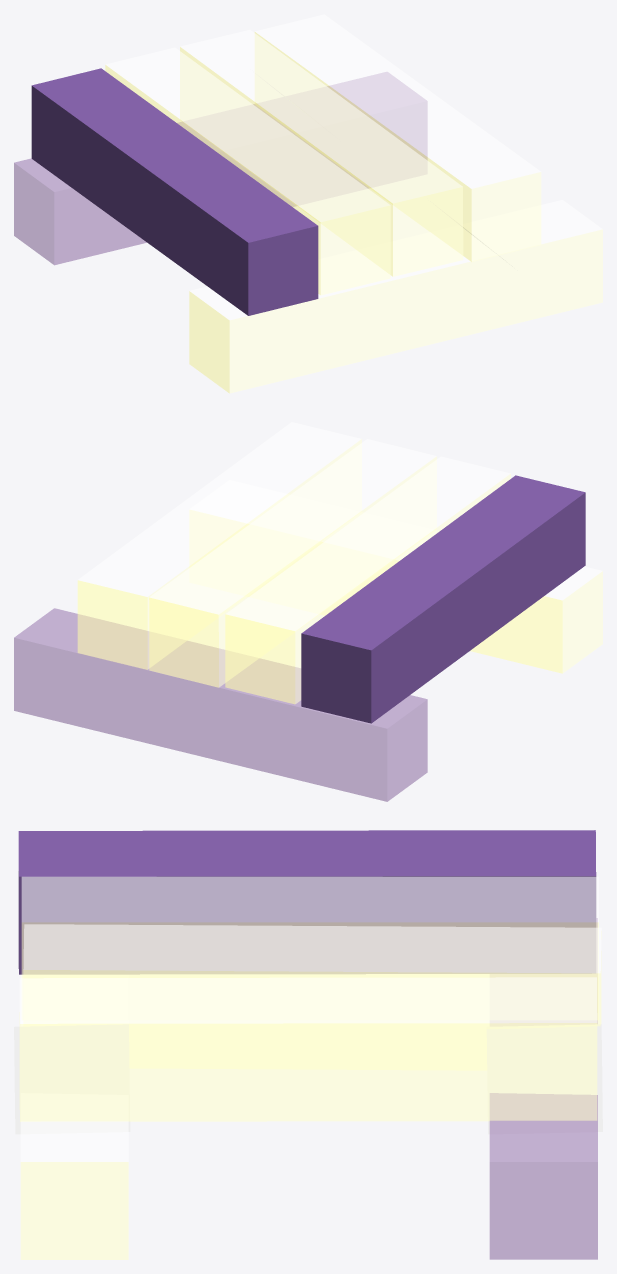
3 renders of one model, top to bottom at view 1: azimuth 30°, elevation 25°; view 2: azimuth 150°, elevation 25°; view 3: azimuth 270°, elevation 25°, orthographic. The views are drawn at different scales.
Visible parts, largest first — view 1: Box (×6); view 2: Box (×6); view 3: Box (×6), Plane (×2).
Boxes of the visible parts, <box> form: Box (×6): <box>14,14,602,393</box>; Box (×6): <box>14,422,602,801</box>; Box (×6): <box>18,830,601,1259</box>; Plane (×2): <box>14,1024,602,1134</box>.
Bounding box in the file's own units: 5.02 × 1.91 × 5.12.
